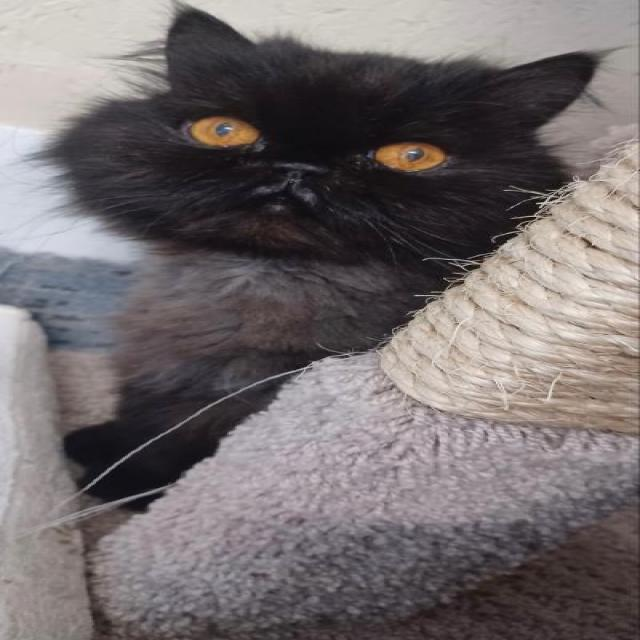persian_cat: (48, 3, 610, 257)
